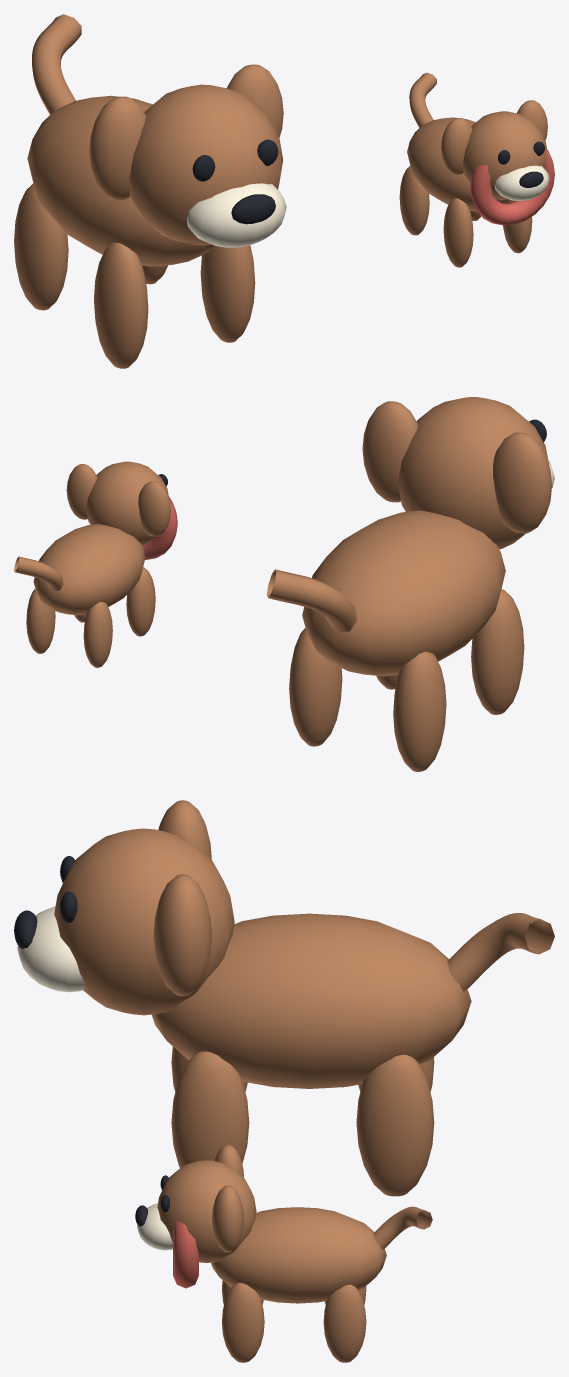
The model's file is dog-opposite-small-dog.glb.
3 renders of one model, top to bottom at view 1: azimuth 30°, elevation 25°; view 2: azimuth 150°, elevation 25°; view 3: azimuth 270°, elevation 25°, orthographic. The views are drawn at different scales.
Visible parts, largest first — view 1: animal head, round animal body, little paw, little paw.001, little paw.002, animal ear, animal head.001, muzzle, round animal body.001, tail, selected collar, animal ear.001 (+9 smaller); view 2: round animal body, animal head, round animal body.001, little paw.001, animal ear, little paw, little paw.003, animal ear.001, animal head.001, tail, little paw.005, little paw.004 (+5 smaller); view 3: round animal body, animal head, round animal body.001, little paw.003, little paw.002, animal ear.001, animal head.001, tail, muzzle, little paw.006, little paw.007, animal ear.003 (+5 smaller).
Boxes of the visible parts, <box> form: animal head: <box>129,84,283,245</box>; round animal body: <box>27,95,214,266</box>; little paw: <box>94,242,148,368</box>; little paw.001: <box>14,183,68,310</box>; little paw.002: <box>200,245,255,342</box>; animal ear: <box>89,96,146,200</box>; animal head.001: <box>463,111,546,199</box>; muzzle: <box>186,183,286,247</box>; round animal body.001: <box>407,117,509,211</box>; tail: <box>32,14,81,114</box>; selected collar: <box>470,149,554,225</box>; animal ear.001: <box>227,64,283,137</box>; round animal body: <box>302,510,505,676</box>; animal head: <box>398,397,551,549</box>; round animal body.001: <box>33,524,145,615</box>; little paw.001: <box>393,651,446,771</box>; animal ear: <box>493,432,551,533</box>; little paw: <box>471,589,524,714</box>; little paw.003: <box>289,628,342,746</box>; animal ear.001: <box>362,401,418,502</box>; animal head.001: <box>86,461,169,545</box>; tail: <box>266,569,356,632</box>; little paw.005: <box>83,602,112,667</box>; little paw.004: <box>126,567,155,636</box>; round animal body: <box>152,913,471,1088</box>; animal head: <box>54,828,234,1015</box>; round animal body.001: <box>211,1207,386,1303</box>; little paw.003: <box>356,1054,434,1196</box>; little paw.002: <box>171,1051,249,1167</box>; animal ear.001: <box>153,874,211,996</box>; animal head.001: <box>157,1160,256,1262</box>; tail: <box>447,913,554,991</box>; muzzle: <box>17,906,84,992</box>; little paw.006: <box>222,1283,264,1362</box>; little paw.007: <box>323,1284,366,1362</box>; animal ear.003: <box>212,1185,243,1252</box>.
Size of the model in its own units: 1.95 by 1.12 by 1.67.
